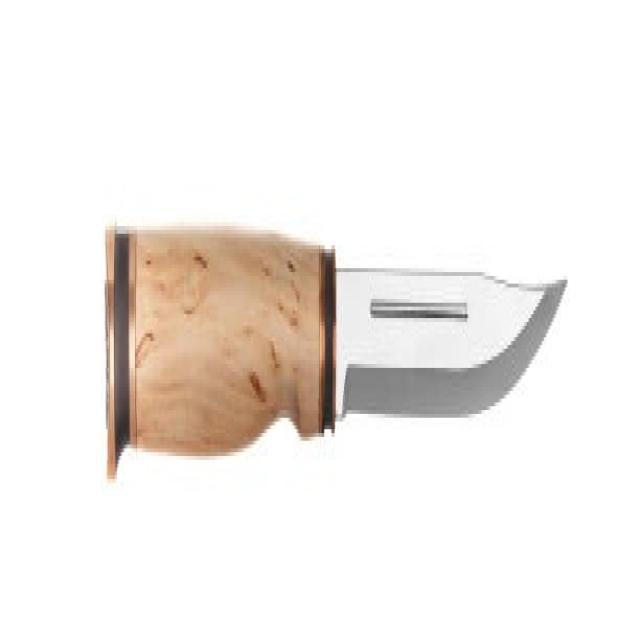knife: (105, 219, 571, 504)
